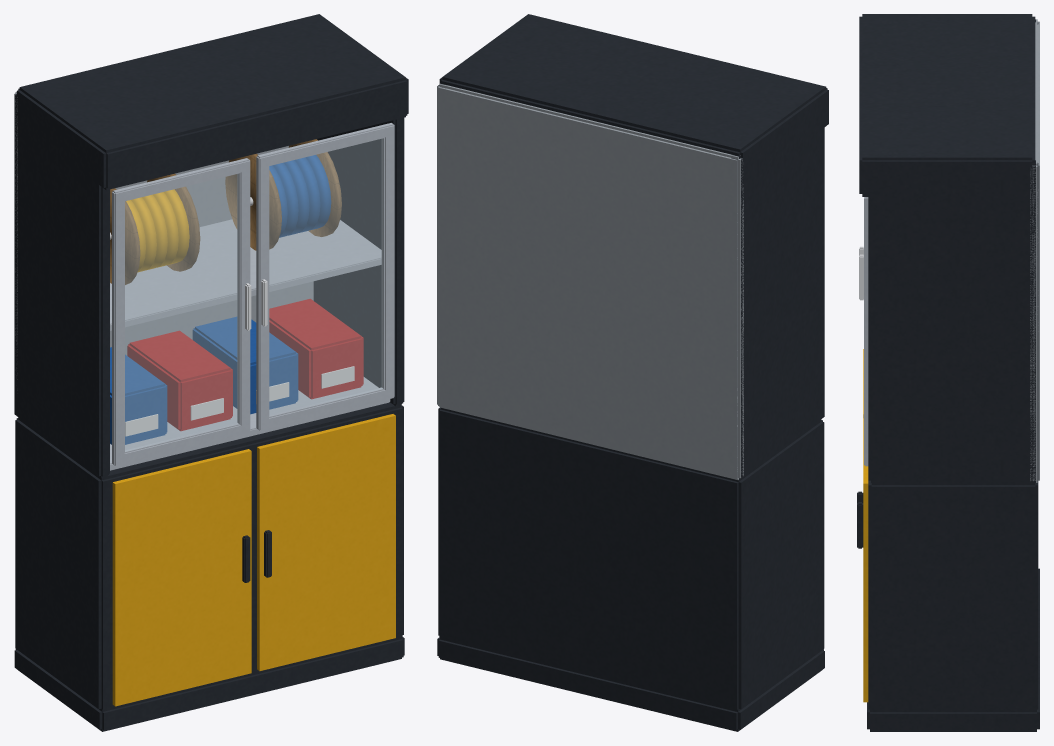
Rendered from decor_parts_cabinet.glb.
3 views of the same model, side by side, from view 1: azimuth 30°, elevation 25°; view 2: azimuth 150°, elevation 25°; view 3: azimuth 270°, elevation 25° (orthographic).
Visible parts, largest first — view 1: DecorPartsCabinet, PartsCabinet_Glass; view 2: DecorPartsCabinet; view 3: DecorPartsCabinet.
Part boxes in pixels (left/top/right/bottom): DecorPartsCabinet: left=14, top=14, right=408, bottom=731; PartsCabinet_Glass: left=125, top=138, right=383, bottom=451; DecorPartsCabinet: left=437, top=14, right=828, bottom=731; DecorPartsCabinet: left=857, top=14, right=1039, bottom=731.
Bounding box in the file's own units: 1.12 × 2.05 × 0.592.
10 materials, 7 textured.
